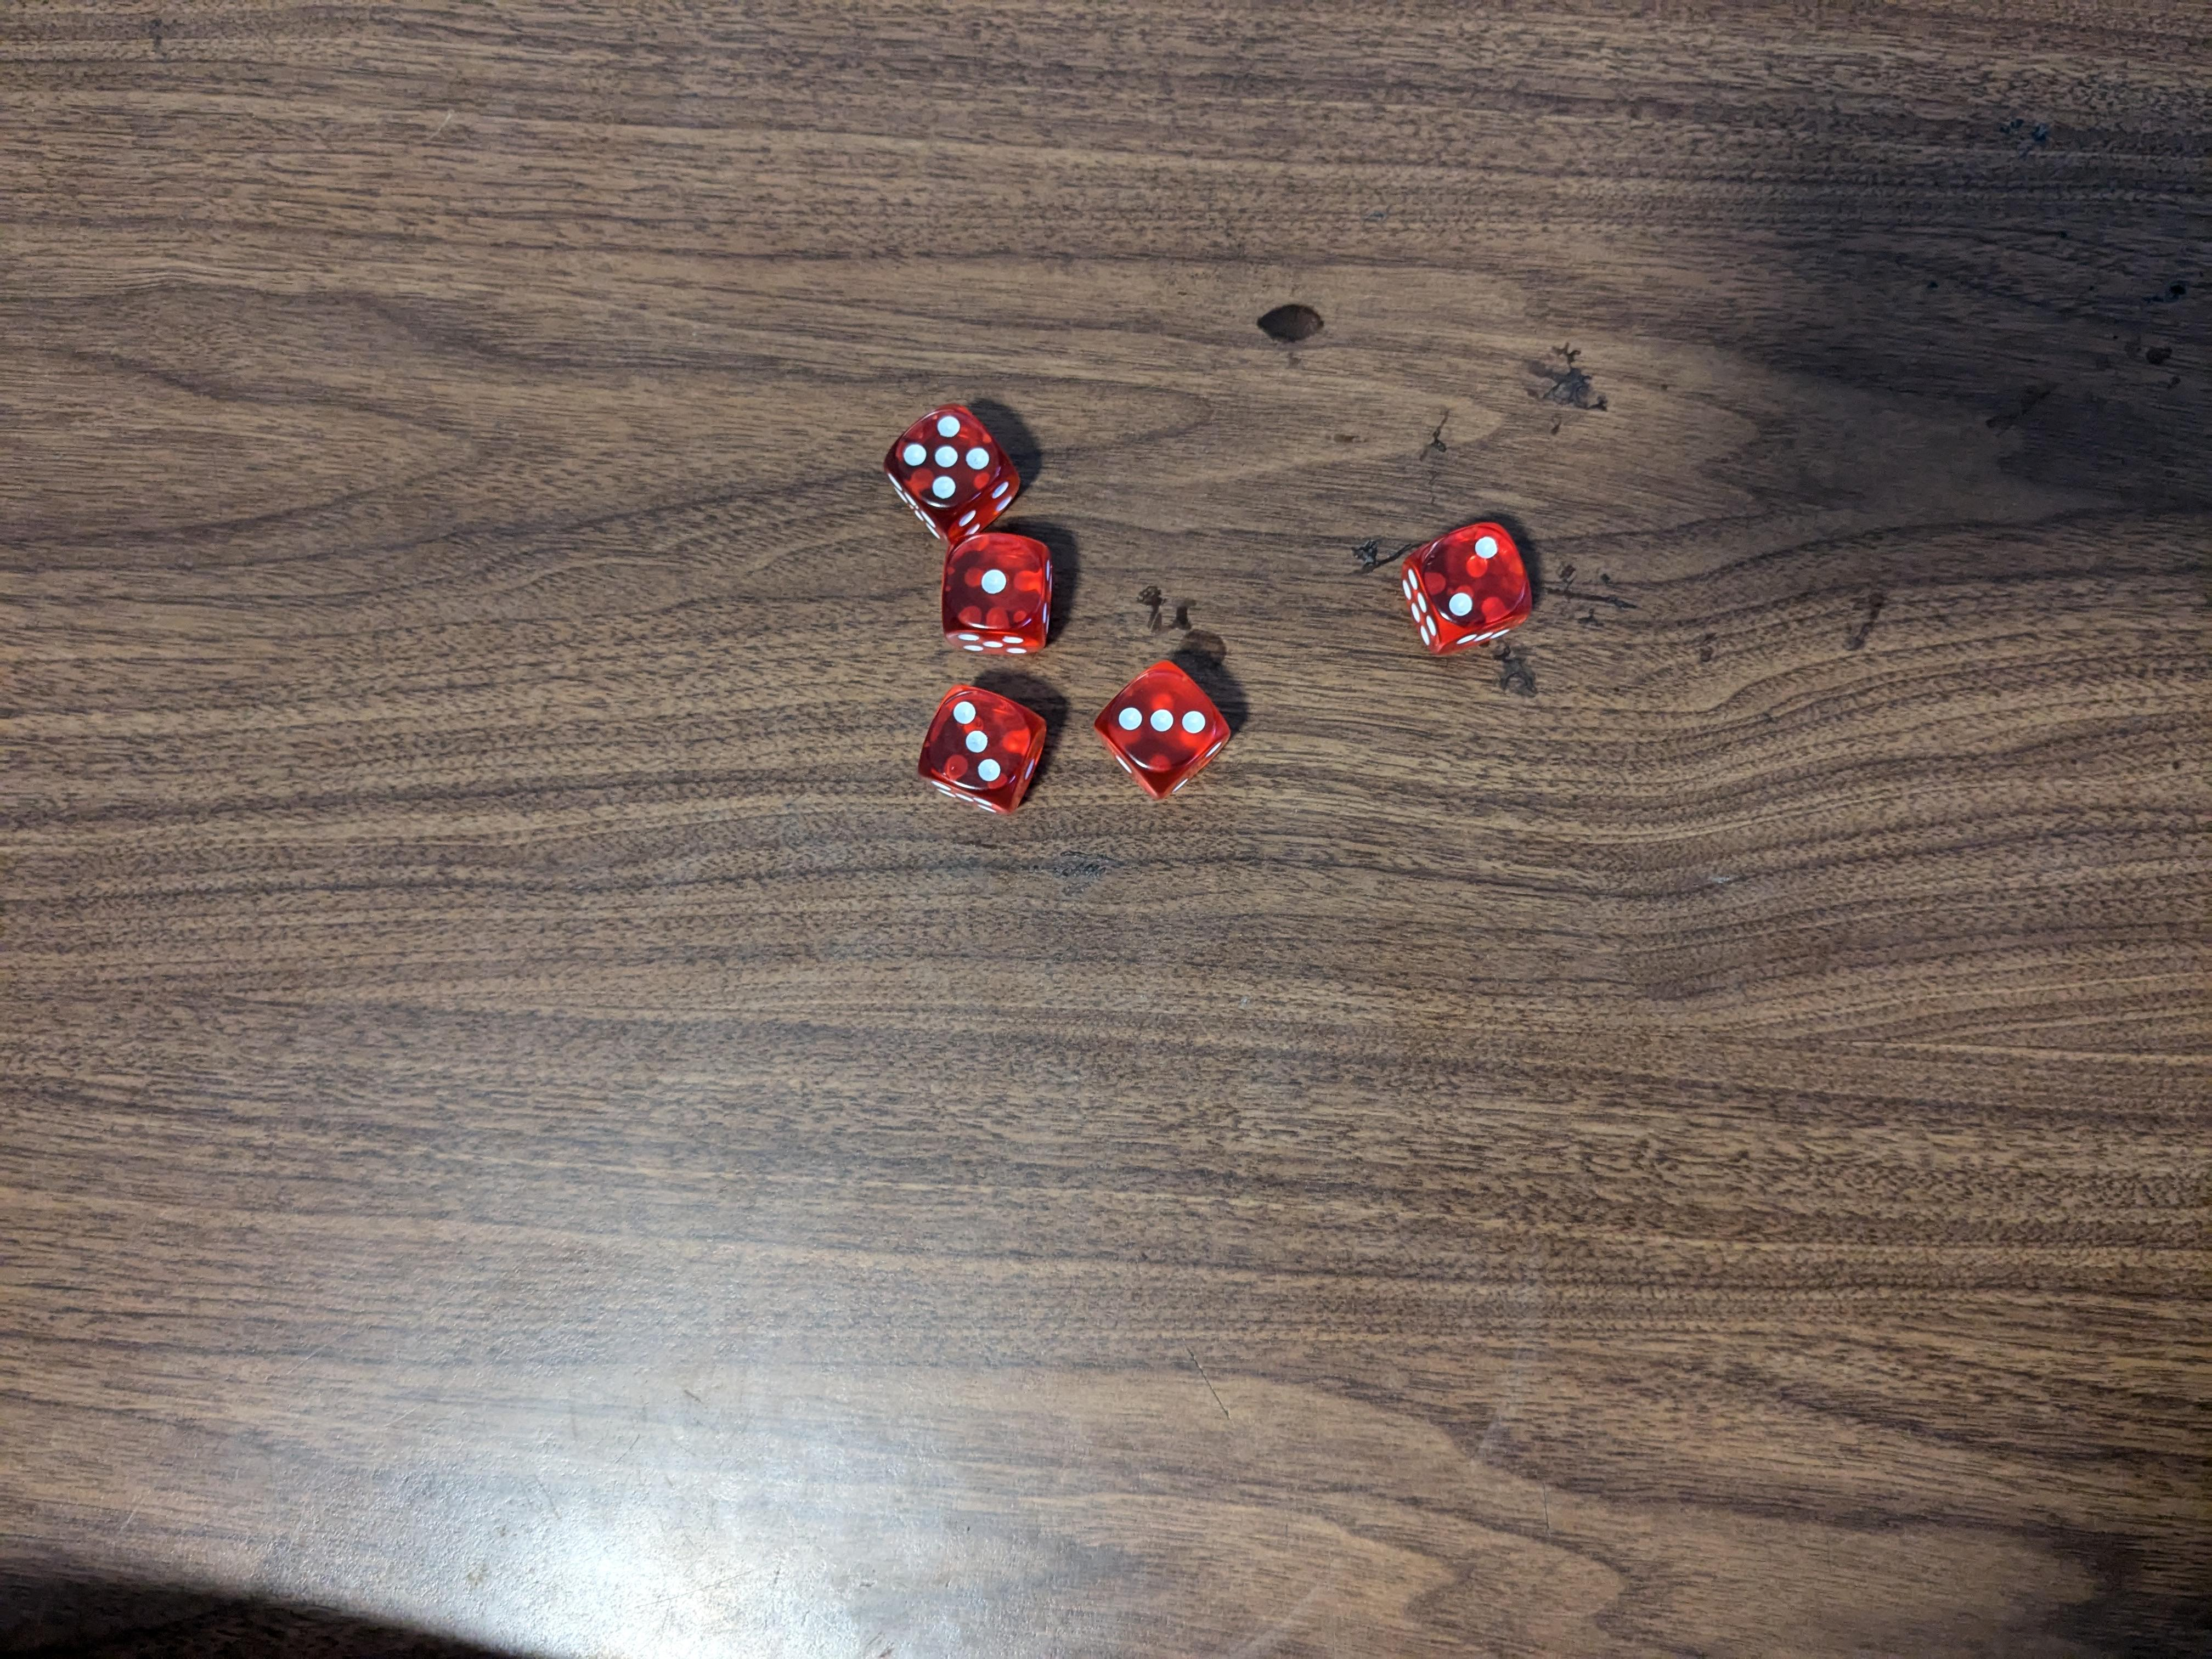five: (883, 403, 1017, 537)
one: (944, 528, 1055, 666)
three: (1089, 659, 1235, 802), (921, 687, 1055, 814)
two: (1400, 516, 1538, 659)
